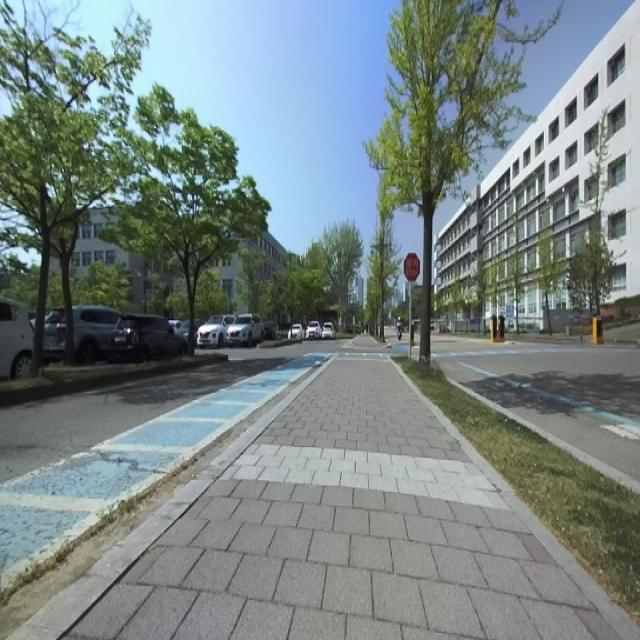sidewalk: (12, 351, 640, 639)
